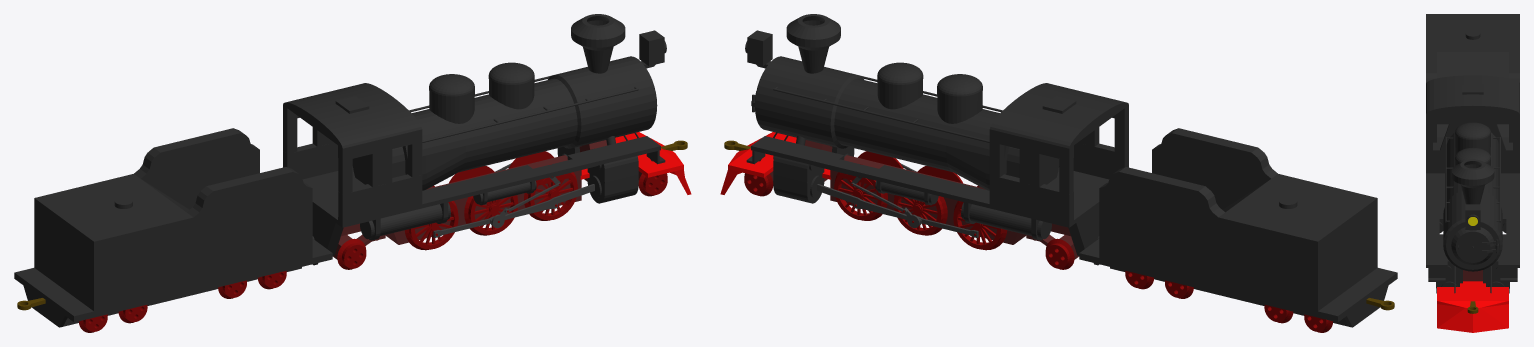
Rendered from train7.glb.
3 renders of one model, left to right at view 1: azimuth 30°, elevation 25°; view 2: azimuth 150°, elevation 25°; view 3: azimuth 270°, elevation 25°, orthographic. The views are drawn at different scales.
Visible parts, largest first — view 1: Tender body_72, Boiler_24, Cab_26, Tender undercarriage_69, Steps and frames_33, Chimney_32, Cylinders_17, Dome.001_40, Dome.002_39, Cube_15, Cylinder.008_49, Wheel.001_9 (+11 smaller); view 2: Tender body_72, Boiler_24, Cab_26, Tender undercarriage_69, Steps and frames_33, Chimney_32, Cylinders_17, Dome.001_40, Dome.002_39, Cube_15, Cylinder.009_50, Wheel.001_9 (+11 smaller); view 3: Tender body_72, Cab_26, Steps and frames_33, Boiler_24, Cowcatcher_25, Chimney_32, Smokebox door_27, Dome.001_40, Cylinders_17, Dome.002_39, Lamp_53, Cab roof hatch_64 (+5 smaller).
Part boxes in pixels (x1,y1,x2,y2): Tender body_72: (34,128,312,311); Boiler_24: (352,56,657,190); Cab_26: (283,83,422,227); Tender undercarriage_69: (14,239,332,327); Steps and frames_33: (422,136,665,208); Chimney_32: (571,14,625,73); Cylinders_17: (557,146,638,203); Dome.001_40: (429,74,474,123); Dome.002_39: (488,62,534,109); Cube_15: (341,155,581,244); Cylinder.008_49: (360,202,450,240); Wheel.001_9: (508,151,577,220); Tender body_72: (1099,128,1377,311); Boiler_24: (754,56,1059,190); Cab_26: (989,83,1128,227); Tender undercarriage_69: (1079,239,1397,327); Steps and frames_33: (746,136,989,208); Chimney_32: (786,14,840,73); Cylinders_17: (773,146,854,203); Dome.001_40: (937,74,982,123); Dome.002_39: (877,62,923,109); Cube_15: (830,155,1070,244); Cylinder.009_50: (961,202,1051,240); Wheel.001_9: (834,151,903,220); Tender body_72: (1426,14,1519,142); Cab_26: (1426,75,1519,173); Steps and frames_33: (1426,173,1519,281); Boiler_24: (1443,132,1502,271); Cowcatcher_25: (1437,281,1508,332); Chimney_32: (1451,159,1494,204); Smokebox door_27: (1451,227,1494,264); Dome.001_40: (1455,122,1490,155); Cylinders_17: (1436,259,1509,293); Dome.002_39: (1455,148,1490,165); Lamp_53: (1465,204,1480,230); Cab roof hatch_64: (1462,84,1483,94).
Bounding box in the file's own units: 33.6 × 8.63 × 5.2.
